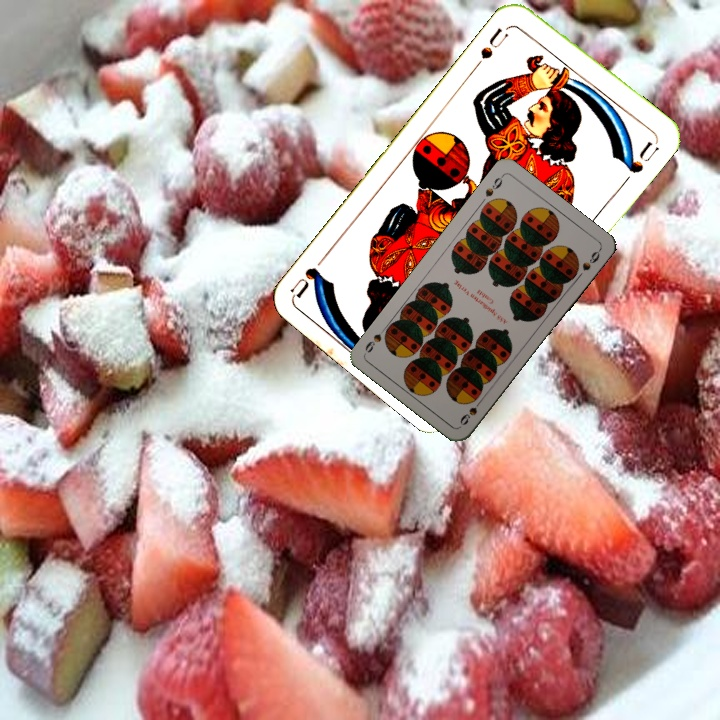S9: (456, 394, 486, 428), (481, 171, 506, 200)
SU: (471, 21, 514, 71)
